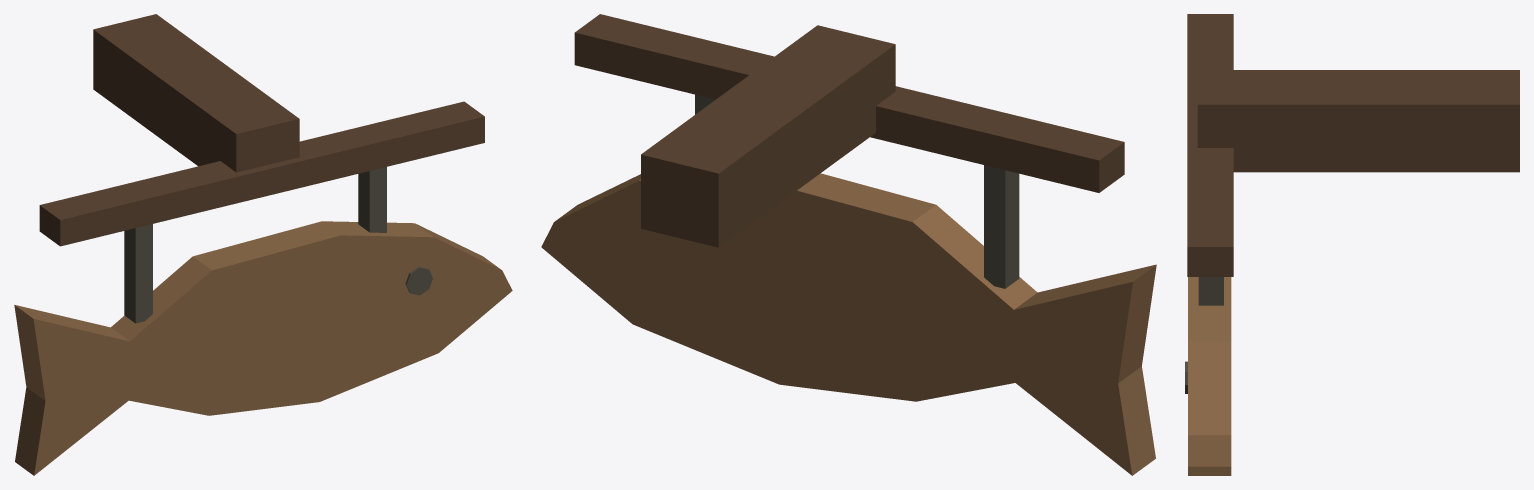
The model's file is fish_trade_sign.glb.
3 renders of one model, left to right at view 1: azimuth 30°, elevation 25°; view 2: azimuth 150°, elevation 25°; view 3: azimuth 270°, elevation 25°, orthographic. The views are drawn at different scales.
Parts seen in each view (by area): view 1: Fish trade sign; view 2: Fish trade sign; view 3: Fish trade sign.
Boxes of the visible parts, x1,y1,x2,y2 form: Fish trade sign: [14, 14, 512, 475]; Fish trade sign: [541, 14, 1156, 475]; Fish trade sign: [1185, 14, 1519, 475].
Size of the model in its own units: 0.835 by 0.48 by 0.449.
